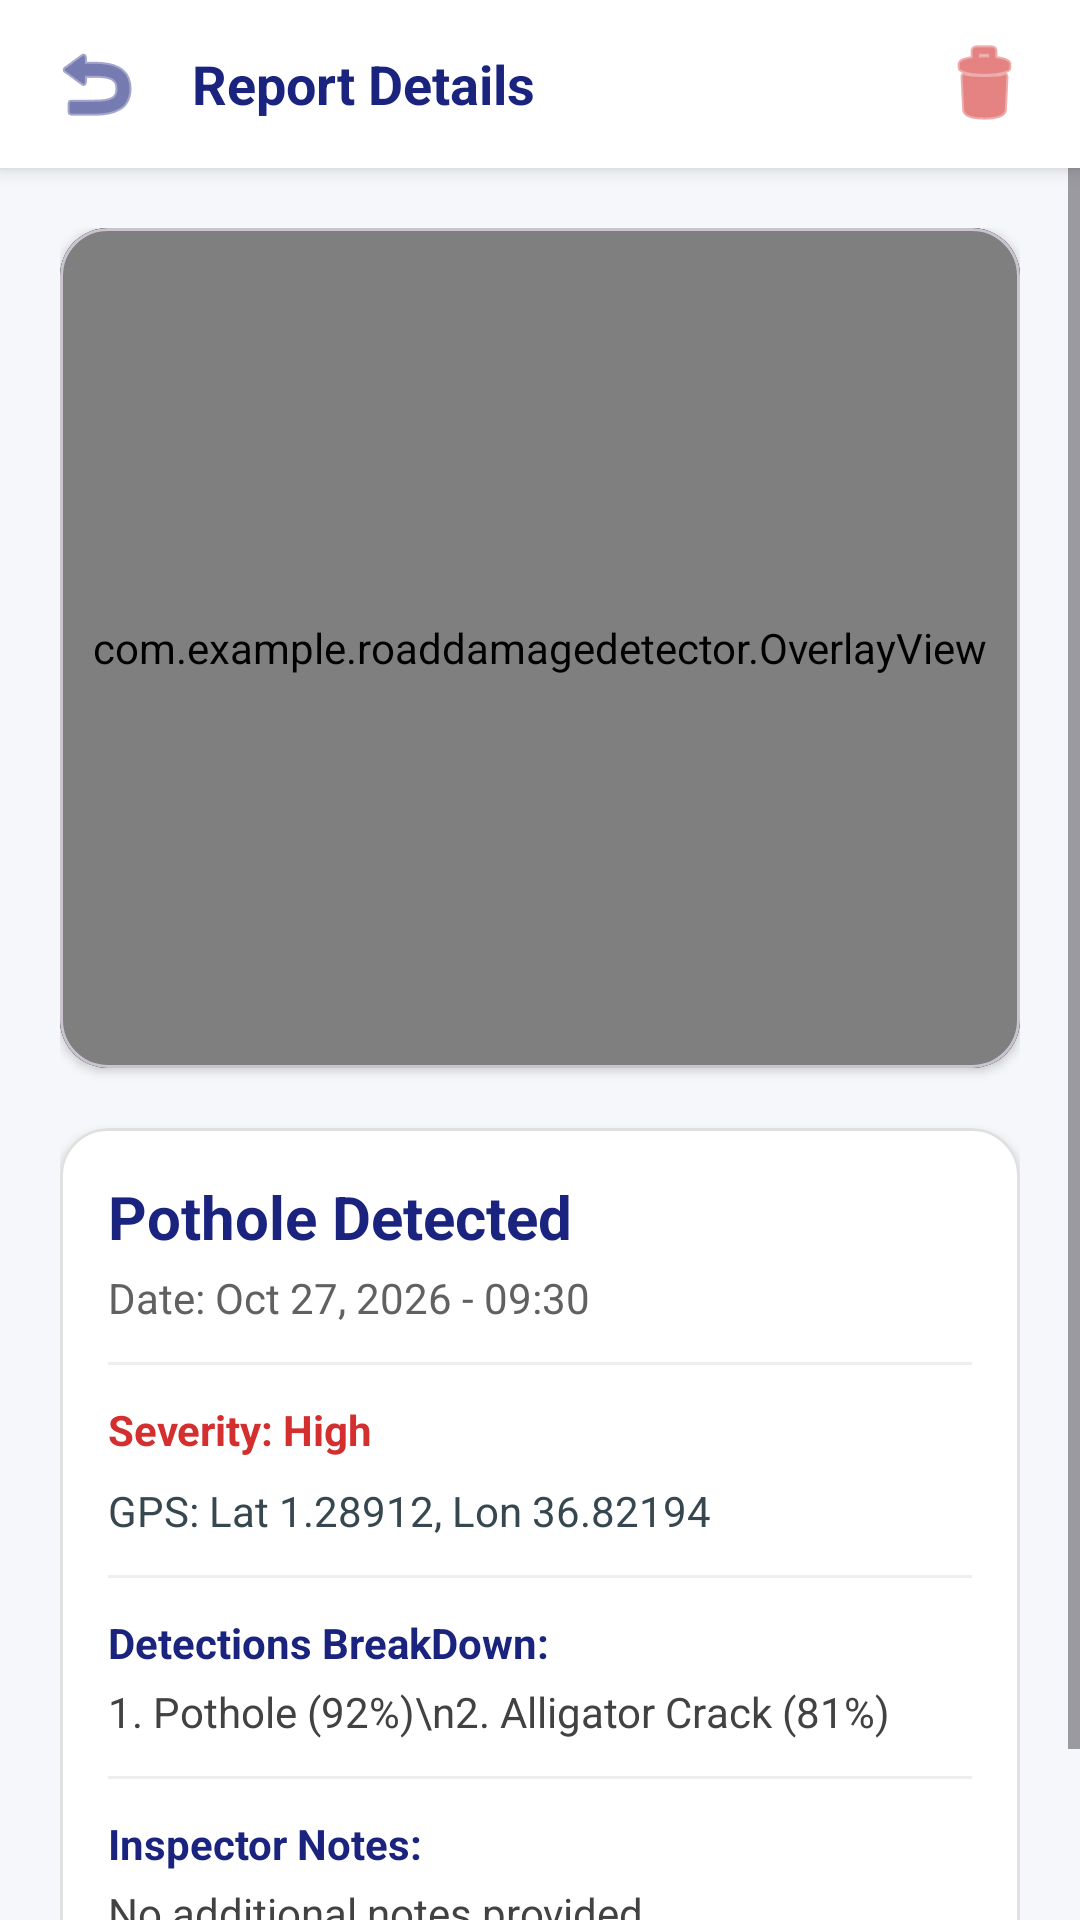

Point at icon controls on the screen. Image size 1080 x 1920, points as [x,y].
Back: [97,84]
Delete Report: [984,82]
